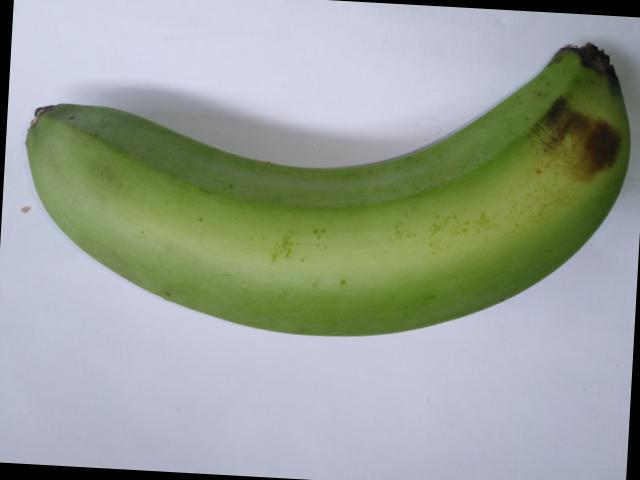freshunripe: (12, 29, 637, 342)
